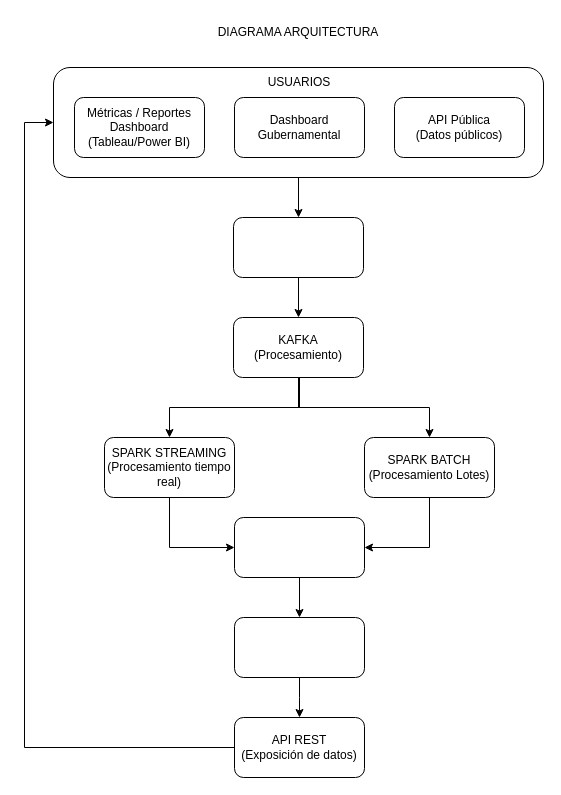
This 561x795 diagram has some shape labels left out. Each missing label, with the centre of its shape:
"API REST (Datos externos)" goes at (298,247).
"DELTA LAKE Databricks (Almacenamiento)" goes at (299,547).
"KAFKA CONNECT (Ingesta datos)" goes at (299,647).
